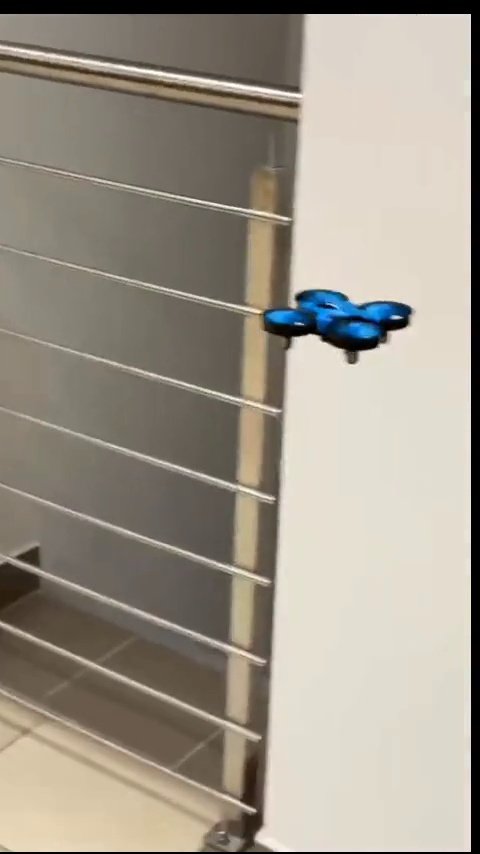drone: (266, 290, 406, 360)
